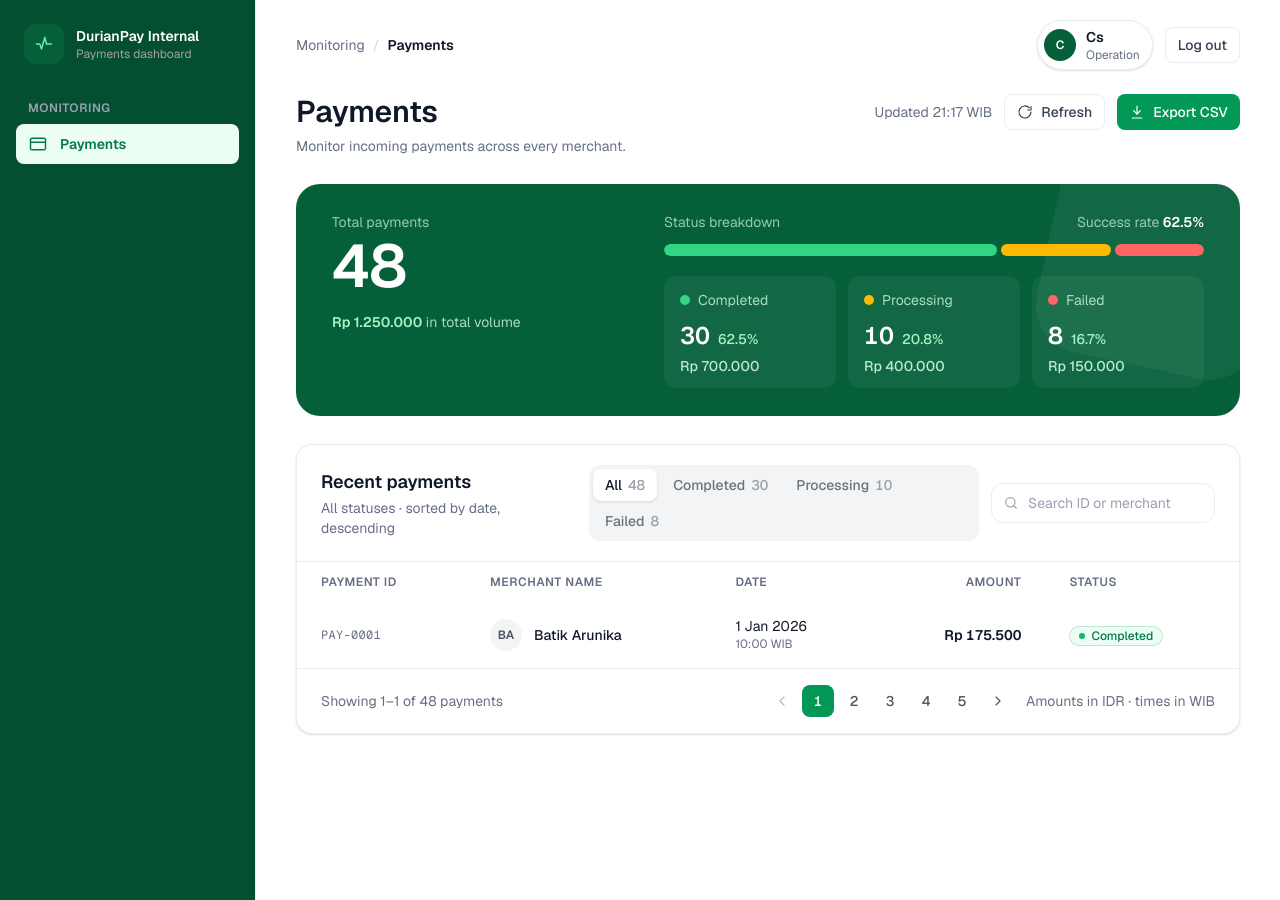
Test case: DashboardContainer › toasts 'Not permitted' when the export endpoint returns 403
This screenshot has width=1280, height=900.
Expected: the text "Batik Arunika" is shown, x1=534 y1=625 x2=622 y2=645
Click the button "Export CSV" at (1179, 112), box x1=1117 y1=94 x2=1240 y2=130
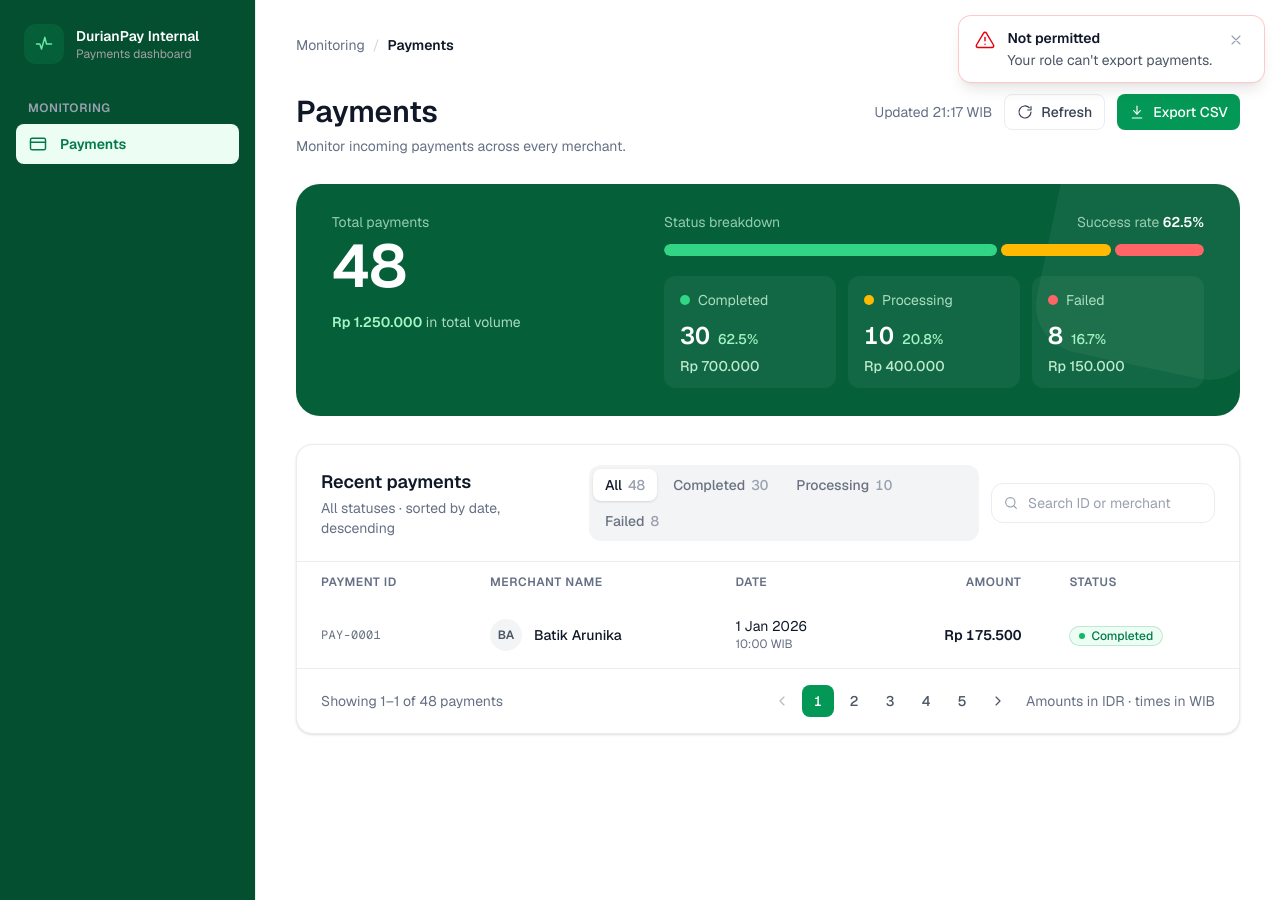
Expected: the text "Not permitted" is shown, x1=1007 y1=29 x2=1100 y2=47
